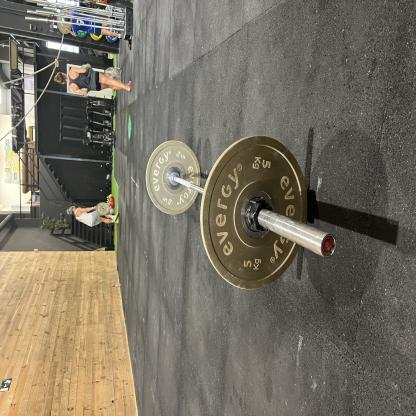barbell: (95, 267, 212, 413), (152, 195, 208, 269)
